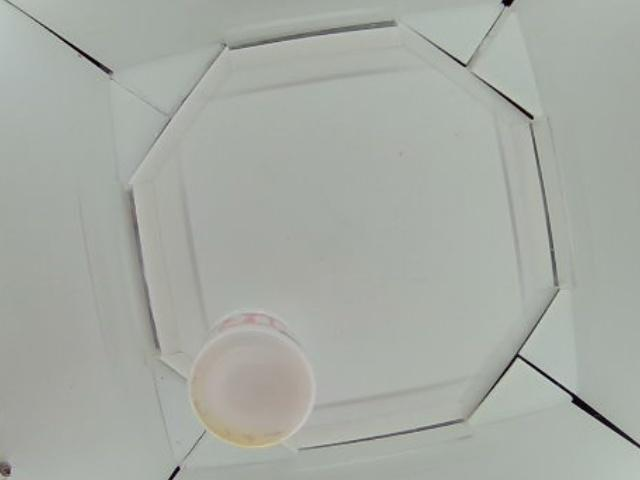Bottle: (187, 311, 317, 449)
